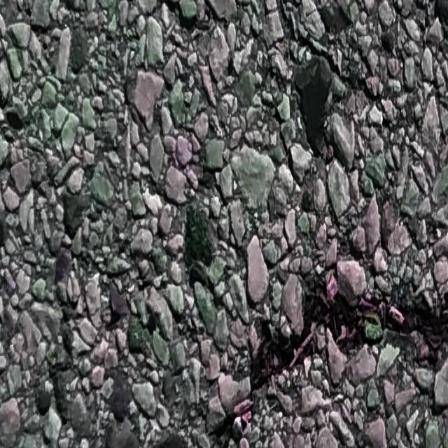crack: (154, 232, 448, 448)
